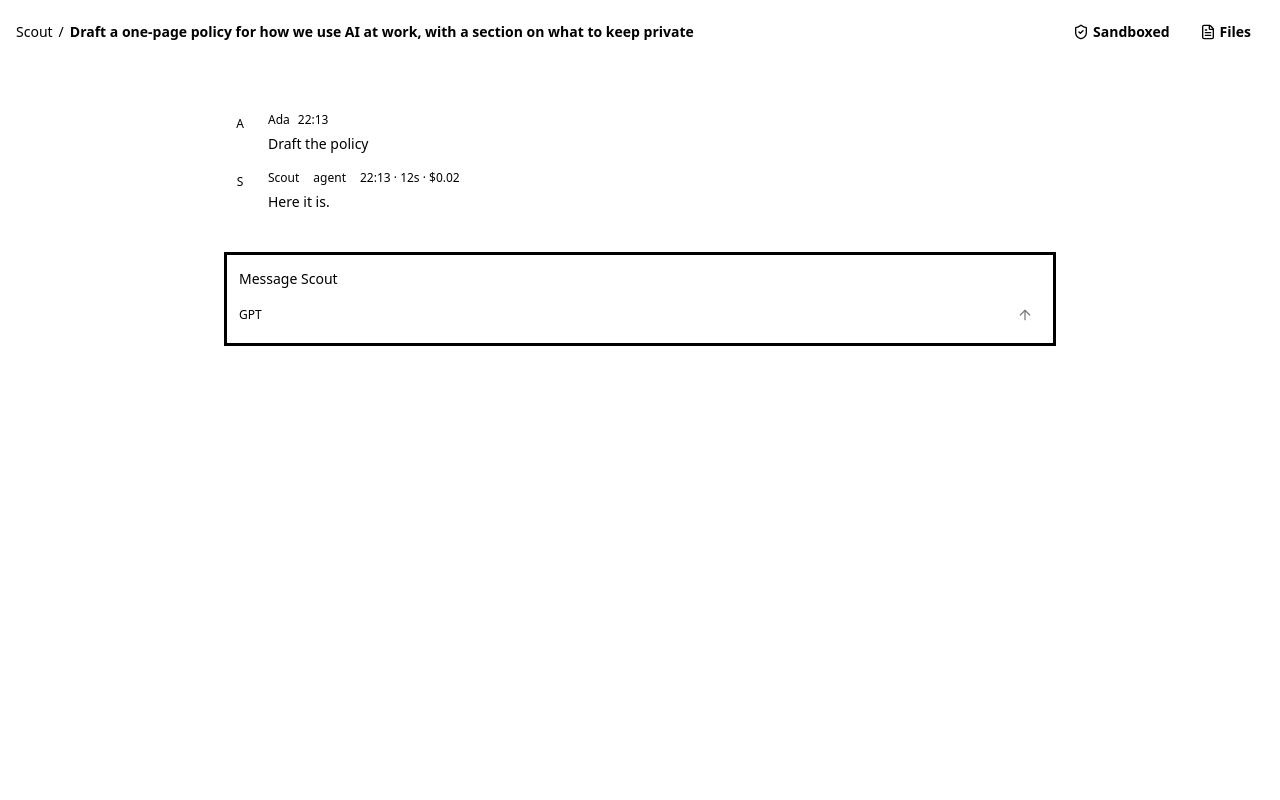
Test: a conversation with one agent › says where the agent runs beside Files, in words, with the folder it works in
Click the button "Sandboxed": (1121, 32) [1060, 16, 1182, 48]
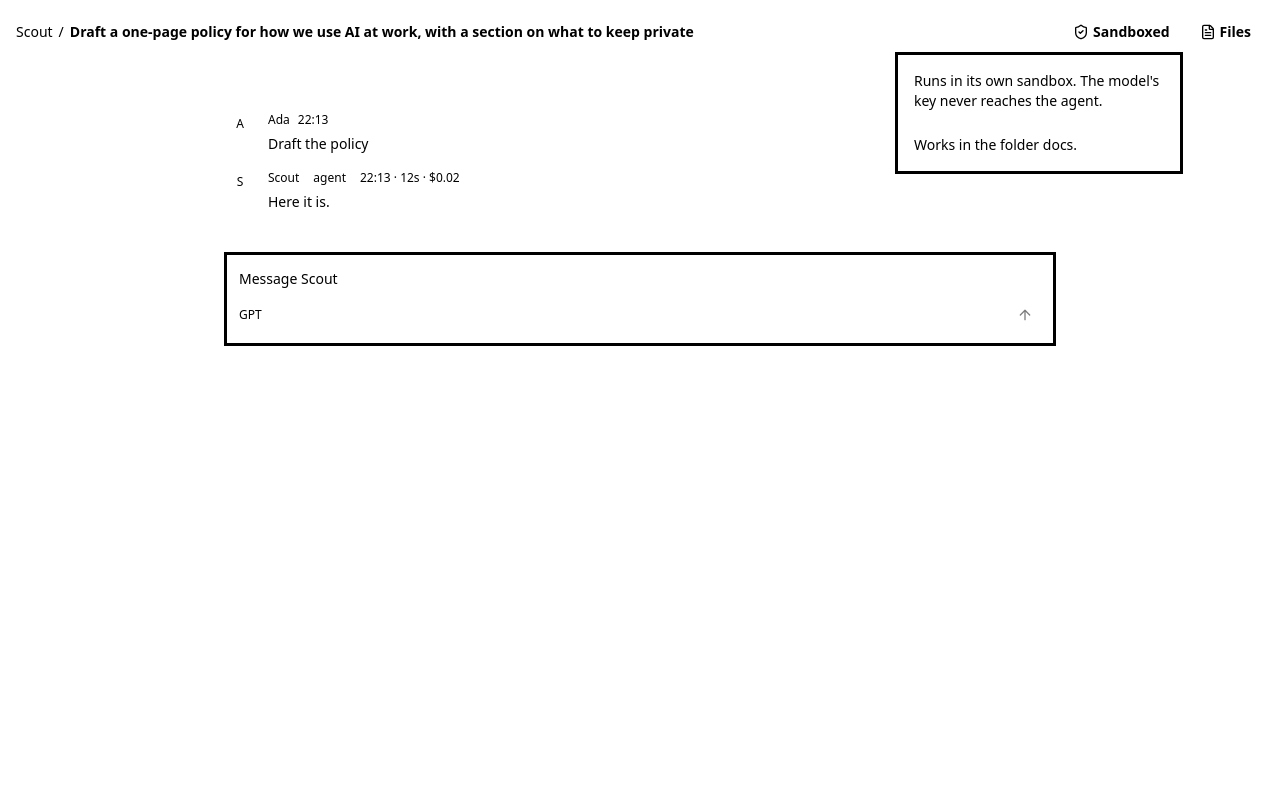
Expected: the text "Runs in its own sandbox" shows "model's key never reaches the agent", [914, 71, 1159, 110]
Expected: the text "docs" is shown, [1043, 135, 1073, 154]
